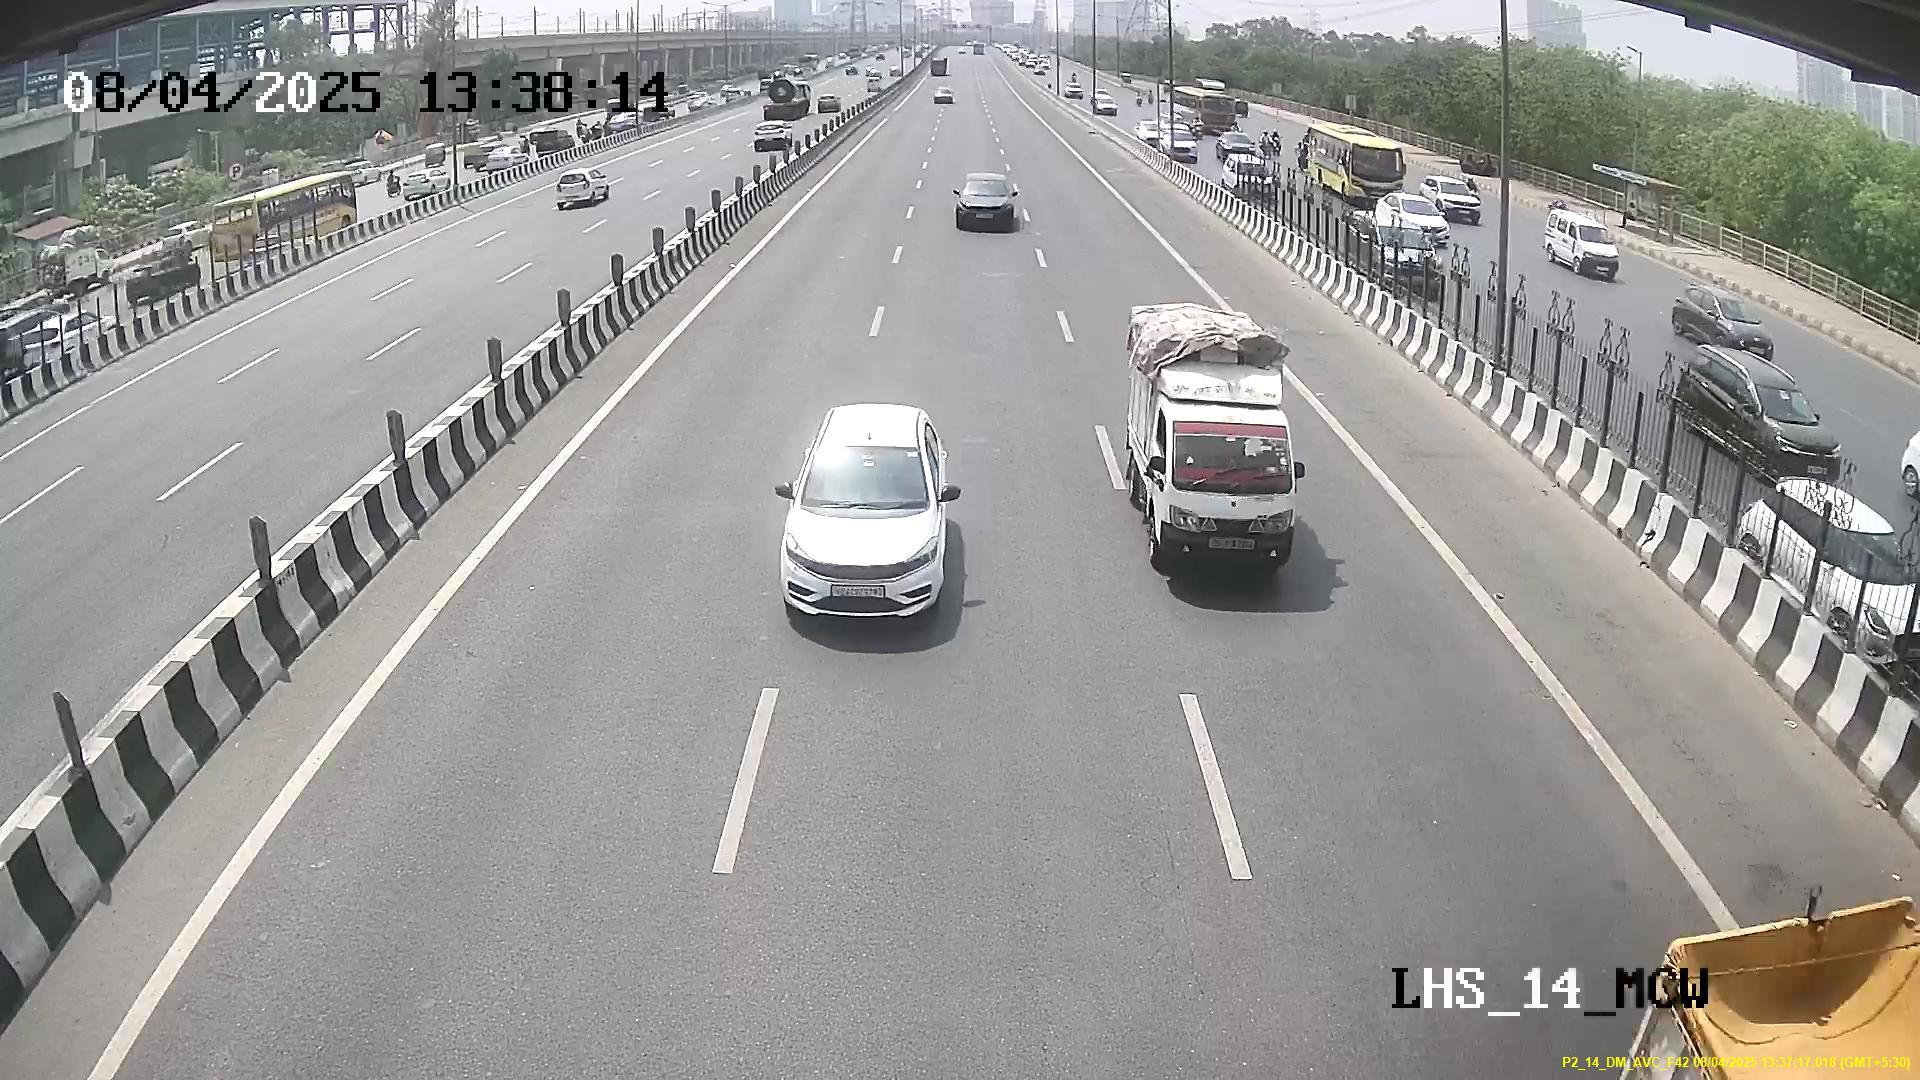car: (771, 417, 952, 636), (1142, 389, 1303, 576)
